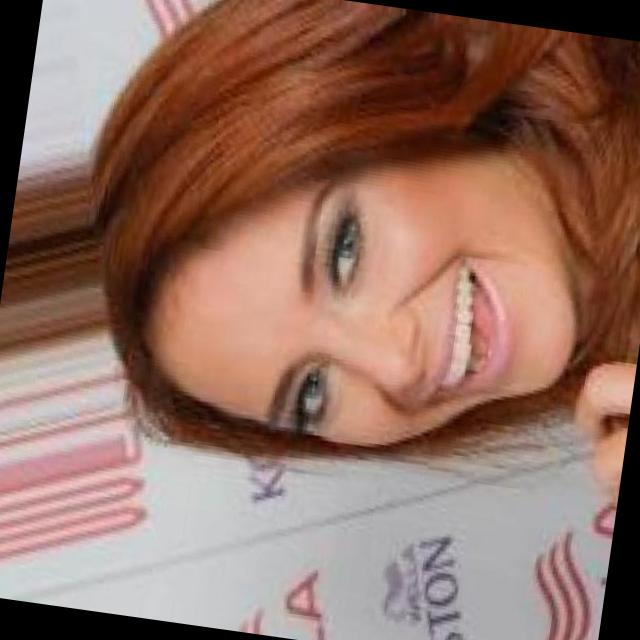bareface: (119, 128, 594, 462)
